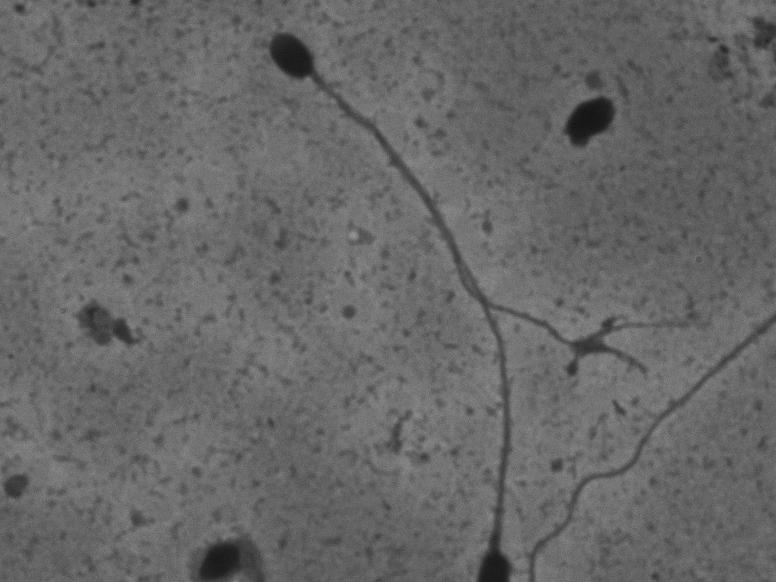Normal: (261, 17, 655, 379)
